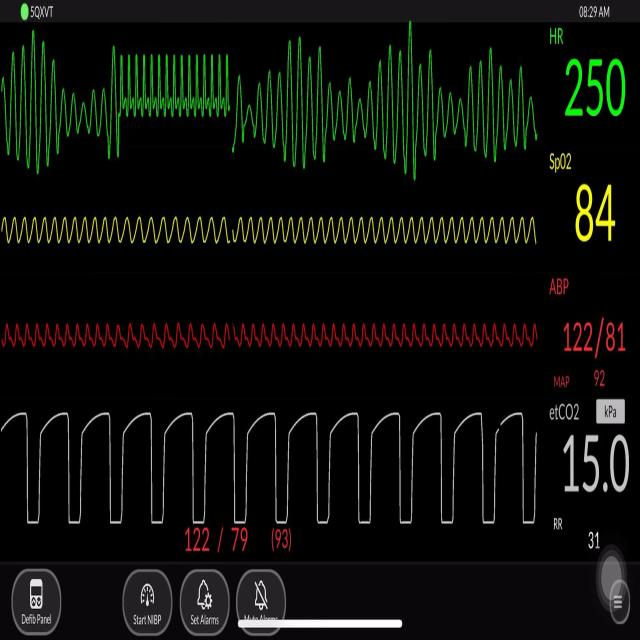danger: (3, 21, 537, 188)
